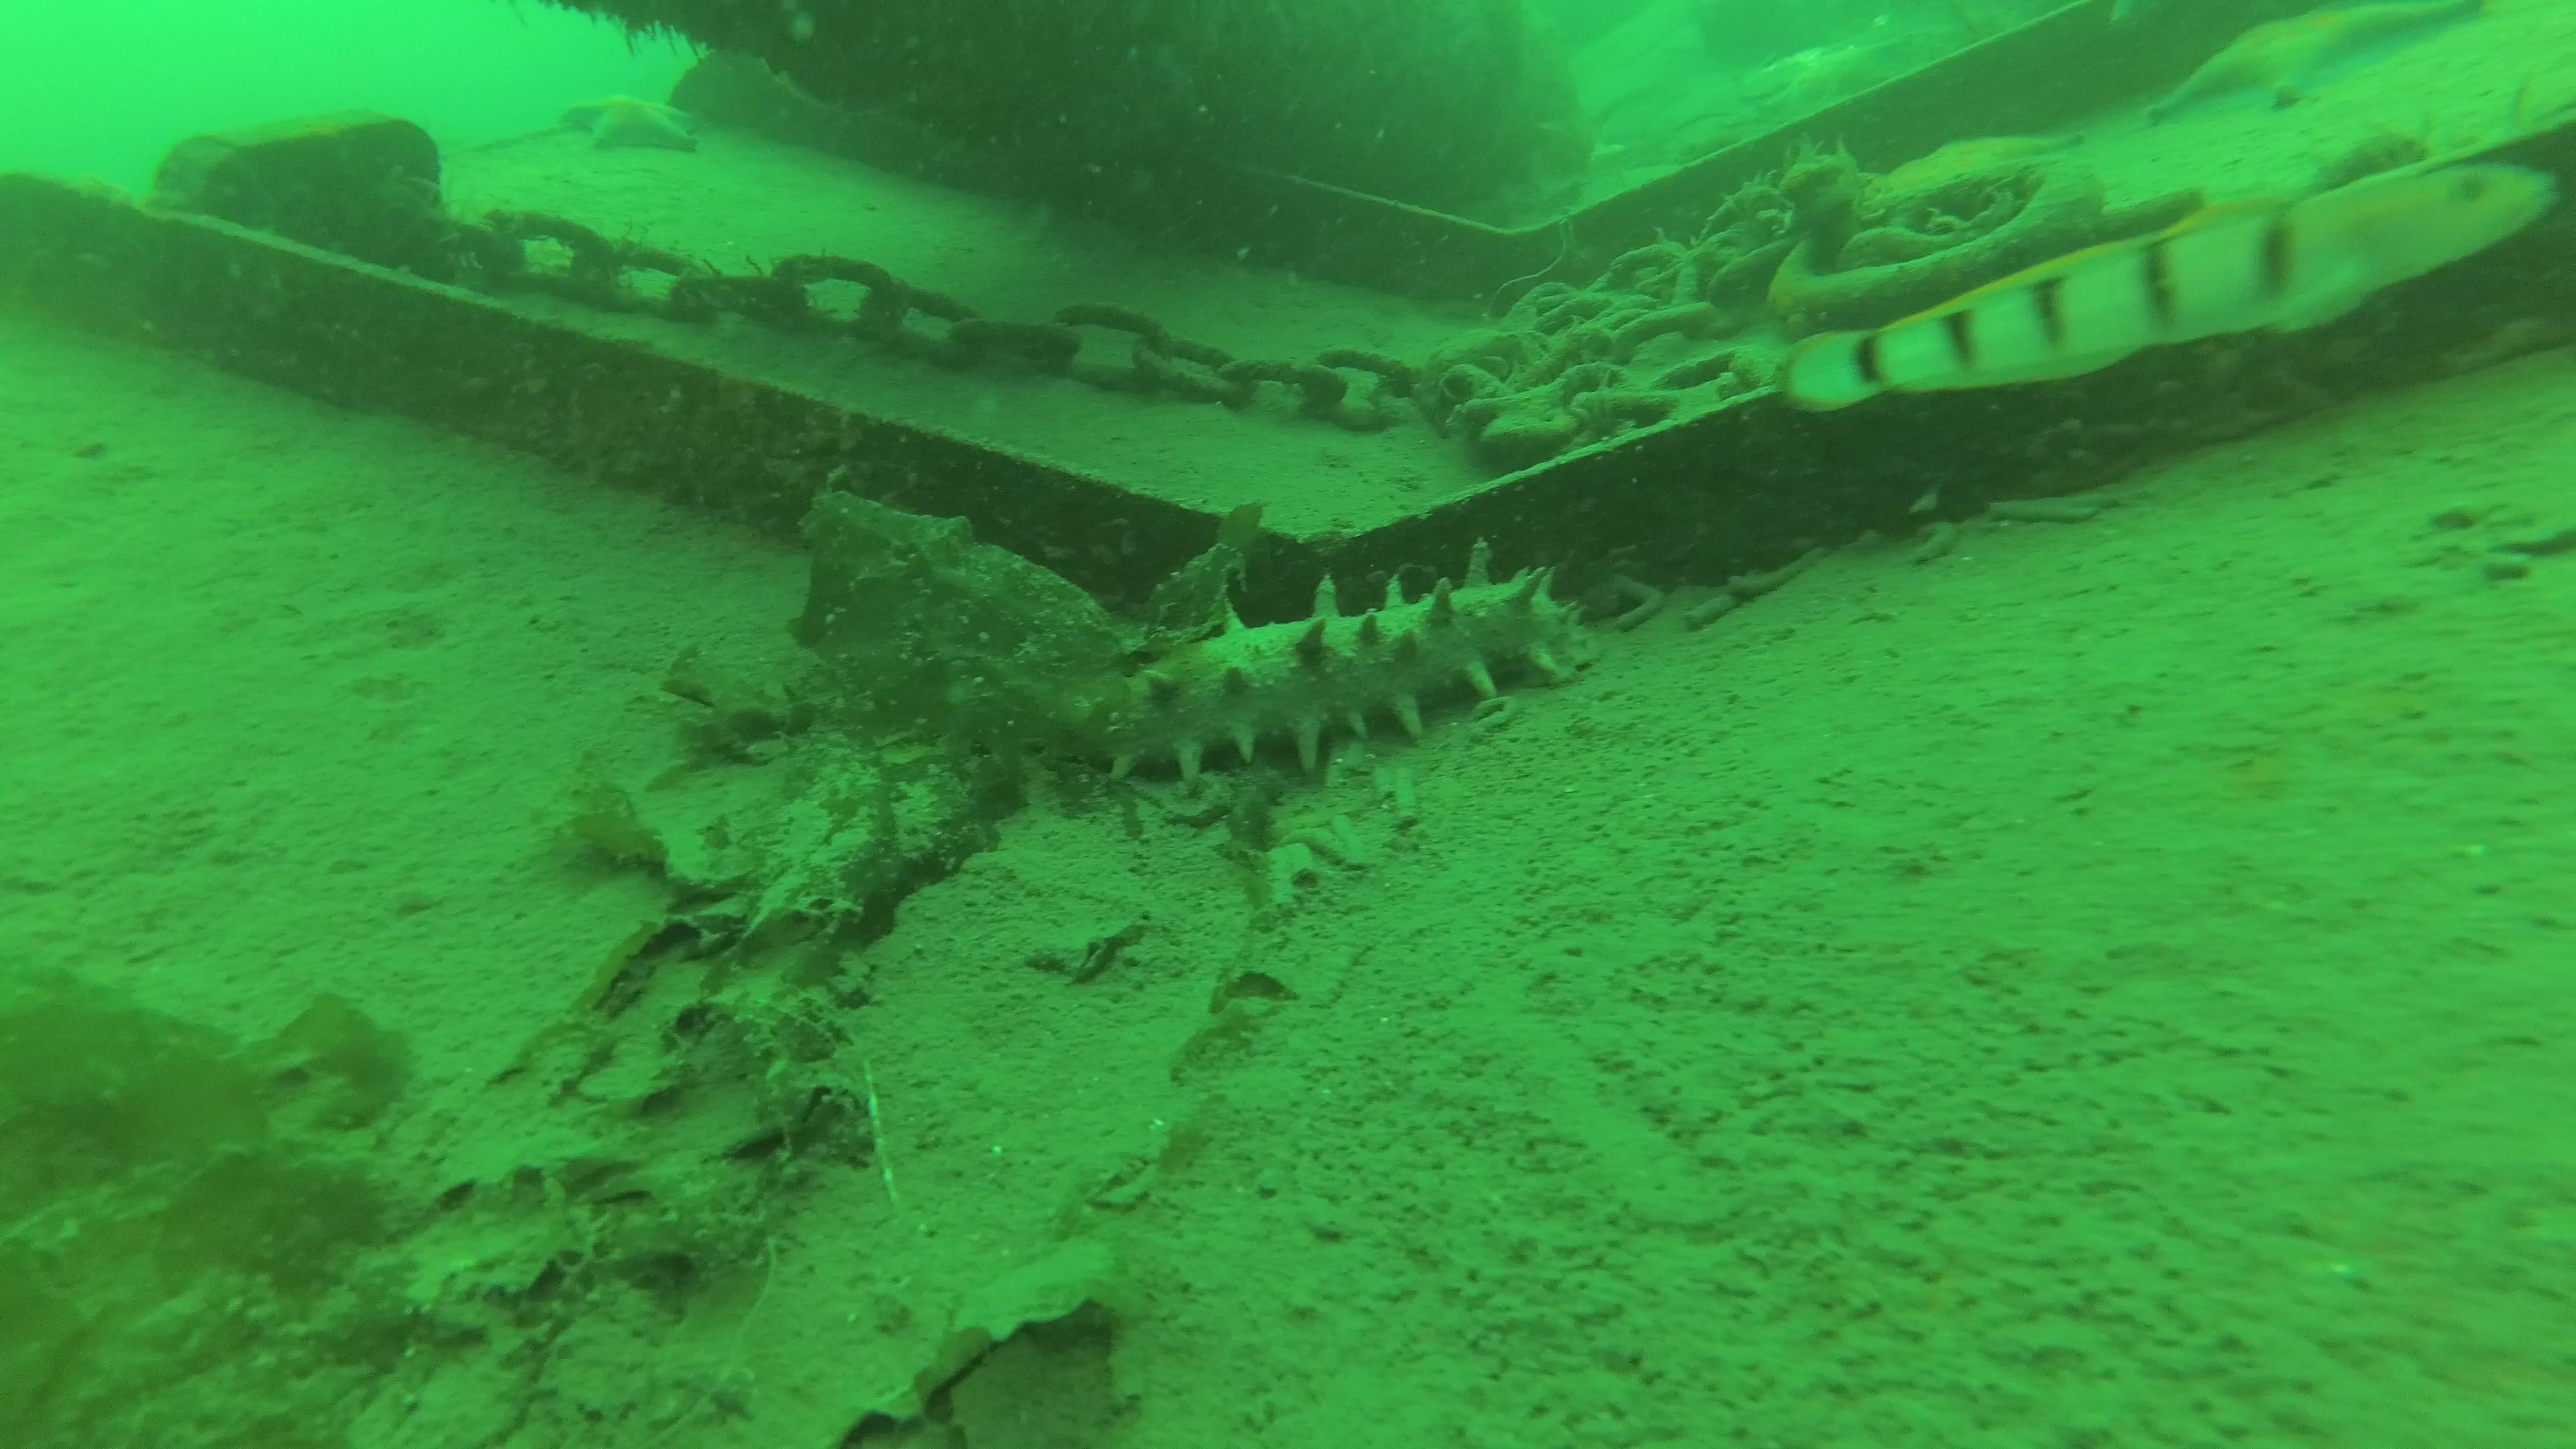holothurian: (1076, 536, 1582, 787)
starfish: (2148, 0, 2484, 124), (1859, 129, 2082, 198), (1739, 35, 1904, 124), (563, 96, 701, 149)
